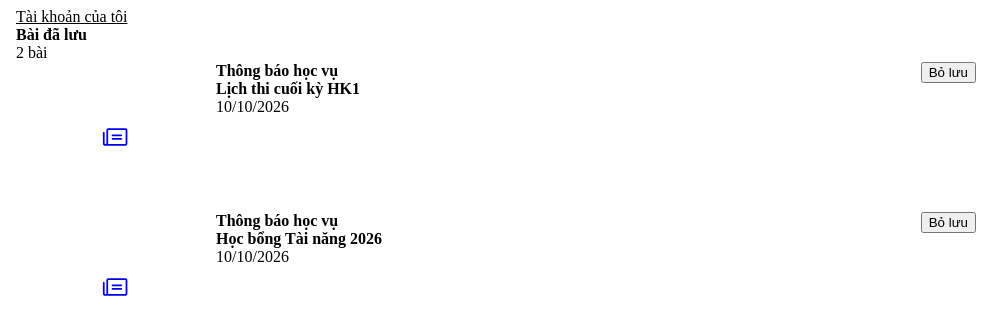
Test: bỏ lưu: gọi DELETE theo id bài, tải lại danh sách; bỏ bài cuối của trang 2 thì lùi về trang 1
Later steps or results of the test are not shown.
Click the button with aria-label "Bỏ lưu Lịch thi cuối kỳ HK1": (948, 72) [921, 62, 976, 83]
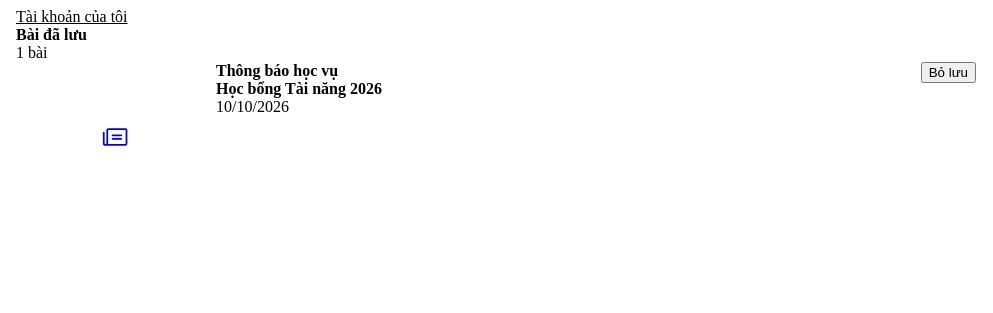
Expected: the link "Học bổng Tài năng 2026" is shown, [216, 80, 382, 97]
Expected: the link "Lịch thi cuối kỳ HK1" is gone
